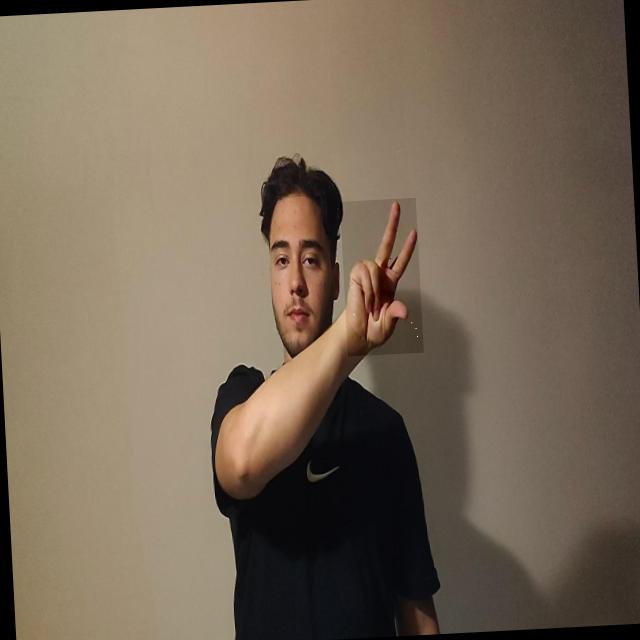no: (340, 198, 424, 356)
